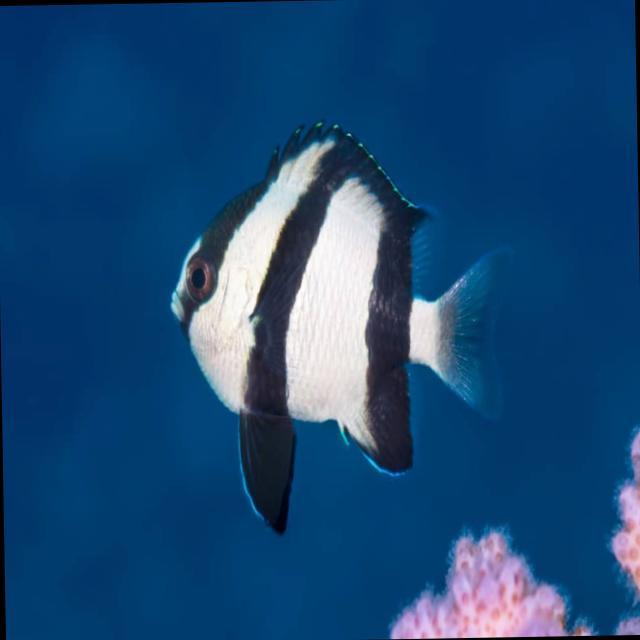ThreeStripedDamselfish: (169, 121, 514, 535)
